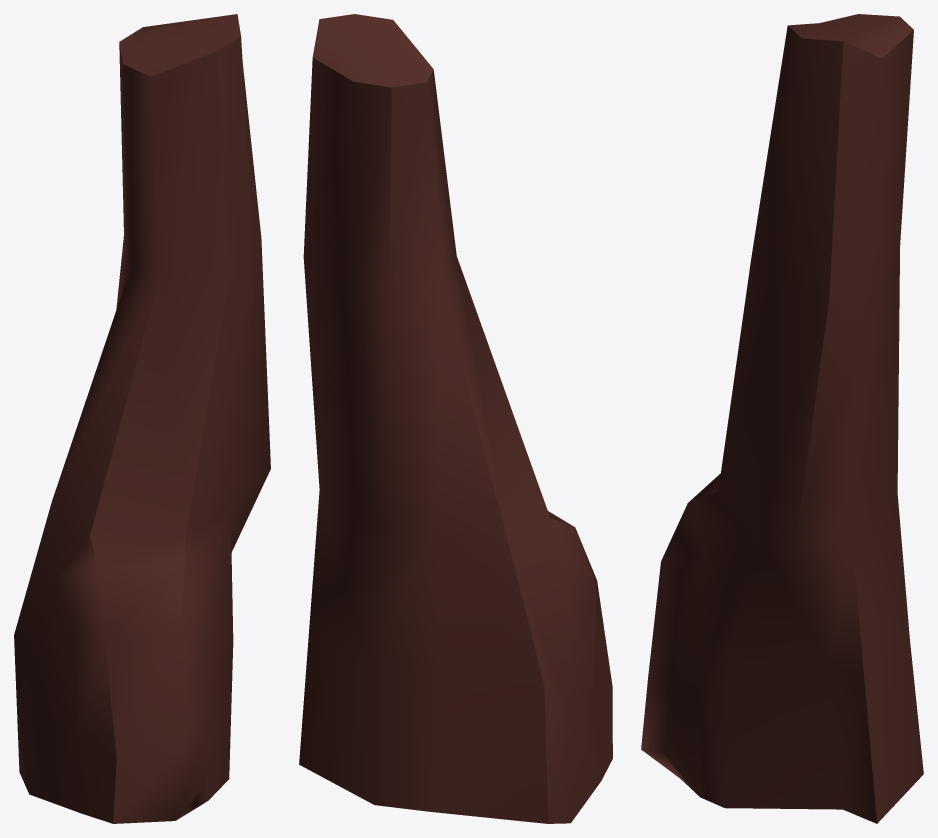
File: SM_big_rock_C.fbx
The picture shows the model from 3 angles, left to right: view 1: azimuth 30°, elevation 25°; view 2: azimuth 150°, elevation 25°; view 3: azimuth 270°, elevation 25°; orthographic projection. The views are drawn at different scales.
Parts seen in each view (by area): view 1: polySurface55; view 2: polySurface55; view 3: polySurface55.
Part boxes in pixels (x1=…): polySurface55: x1=14, y1=14, x2=270, y2=823; polySurface55: x1=299, y1=14, x2=612, y2=823; polySurface55: x1=641, y1=14, x2=923, y2=823.
Bounding box in the file's own units: 436 × 1242 × 393.
